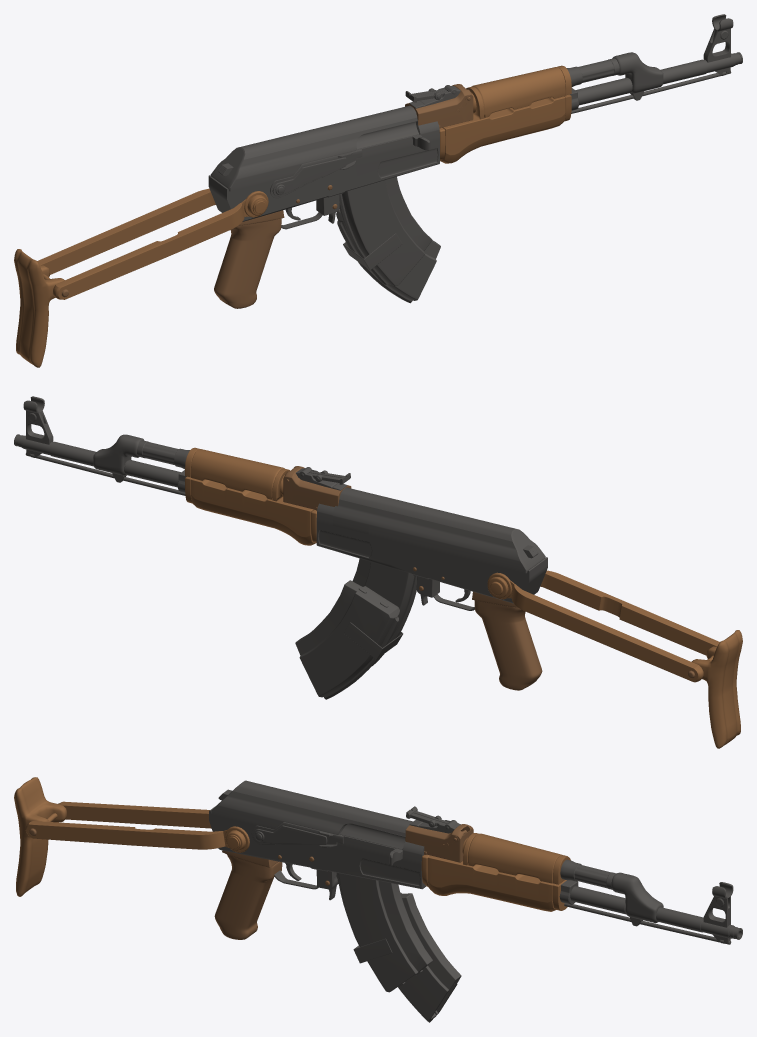
Rendered from rifle-ak47.glb.
3 views of the same model, one above another, from view 1: azimuth 30°, elevation 25°; view 2: azimuth 150°, elevation 25°; view 3: azimuth 330°, elevation 25° (orthographic).
Visible parts, largest first — view 1: AK, Cargador (×2), object 55, SoporteDer, Guardamanos2, SoporteIzq, Almohadilla, Guardamanos, Seguro_Modo_Disparo, Base_AK_2, Toma_de_Gases1, object 1 (+5 smaller); view 2: AK, Cargador (×2), object 55, SoporteIzq, Guardamanos2, SoporteDer, Almohadilla, Guardamanos, Base_AK_2, Toma_de_Gases1, object 1, Toma_de_Gases2 (+4 smaller); view 3: AK, Cargador (×2), Guardamanos2, SoporteDer, object 55, Almohadilla, Guardamanos, SoporteIzq, Base_AK_2, Seguro_Modo_Disparo, Toma_de_Gases1, object 1 (+5 smaller).
Boxes of the visible parts, left/top/right/bottom form: AK: left=208, top=105, right=439, bottom=221; Cargador (×2): left=336, top=176, right=440, bottom=303; object 55: left=214, top=210, right=284, bottom=308; SoporteDer: left=52, top=199, right=248, bottom=299; Guardamanos2: left=440, top=96, right=565, bottom=163; SoporteIzq: left=37, top=188, right=215, bottom=274; Almohadilla: left=14, top=249, right=64, bottom=367; Guardamanos: left=466, top=67, right=565, bottom=119; Seguro_Modo_Disparo: left=270, top=149, right=362, bottom=198; Base_AK_2: left=405, top=84, right=473, bottom=127; Toma_de_Gases1: left=612, top=52, right=663, bottom=93; object 1: left=660, top=52, right=742, bottom=84; AK: left=316, top=487, right=547, bottom=603; Cargador (×2): left=295, top=558, right=416, bottom=699; object 55: left=472, top=591, right=542, bottom=690; SoporteIzq: left=508, top=580, right=703, bottom=682; Guardamanos2: left=191, top=478, right=315, bottom=545; SoporteDer: left=540, top=570, right=719, bottom=655; Almohadilla: left=691, top=630, right=742, bottom=748; Guardamanos: left=190, top=449, right=290, bottom=501; Base_AK_2: left=283, top=466, right=351, bottom=509; Toma_de_Gases1: left=93, top=434, right=144, bottom=475; object 1: left=14, top=434, right=96, bottom=466; Toma_de_Gases2: left=124, top=460, right=180, bottom=487; AK: left=209, top=780, right=426, bottom=889; Cargador (×2): left=336, top=873, right=461, bottom=1022; Guardamanos2: left=427, top=855, right=555, bottom=911; SoporteDer: left=25, top=821, right=228, bottom=849; object 55: left=214, top=850, right=282, bottom=939; Almohadilla: left=14, top=777, right=66, bottom=896; Guardamanos: left=463, top=833, right=561, bottom=883; SoporteIzq: left=58, top=801, right=211, bottom=828; Base_AK_2: left=405, top=824, right=473, bottom=862; Seguro_Modo_Disparo: left=251, top=822, right=343, bottom=847; Toma_de_Gases1: left=611, top=872, right=663, bottom=923; object 1: left=656, top=907, right=742, bottom=939.
Size of the model in its own units: 0.5183 by 0.1508 by 0.0452.
